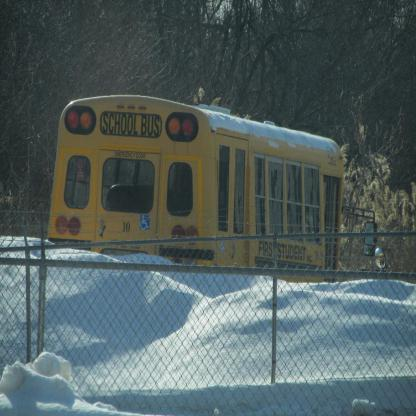Bus: (47, 93, 388, 284)
